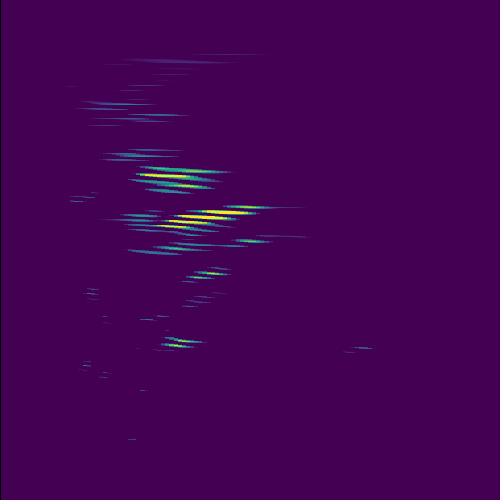semblance: (154, 201, 276, 232), (132, 165, 229, 196)
